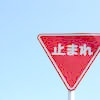Regulatory_sign_triangle: (37, 27, 100, 92)
